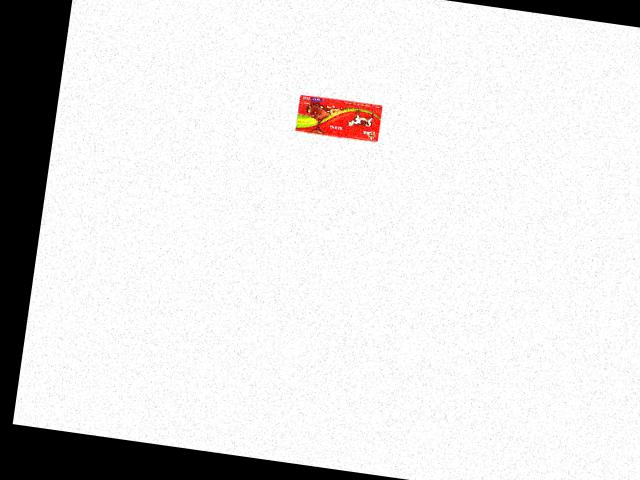chocolate: (293, 86, 389, 146)
